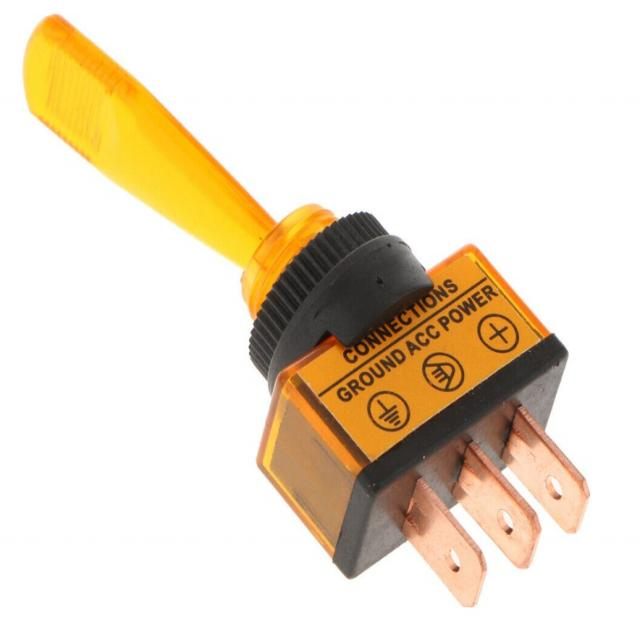toggle switch: (20, 22, 392, 380)
